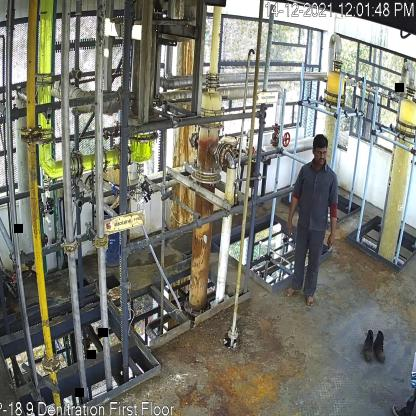no_shoes: (282, 286, 300, 297), (303, 294, 315, 309)
shoes: (362, 328, 378, 364), (374, 331, 387, 361)
